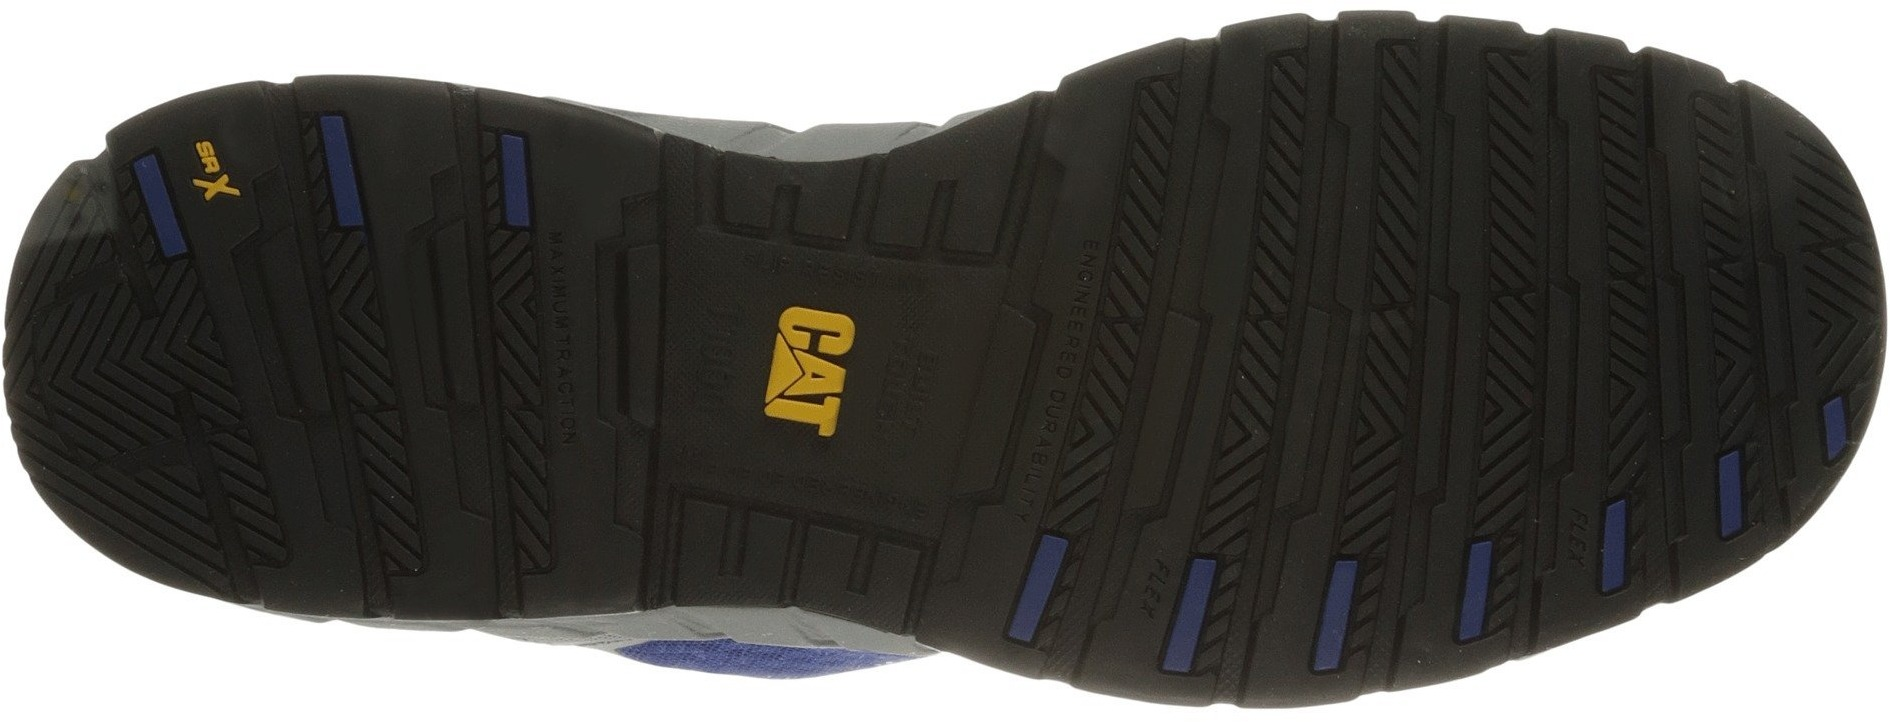text: (742, 298, 871, 460)
